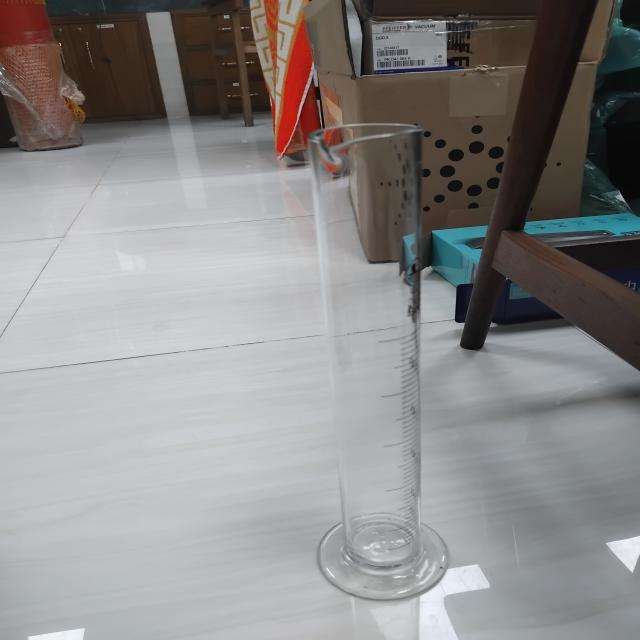Measuring_Cylinder: (229, 84, 487, 614)
